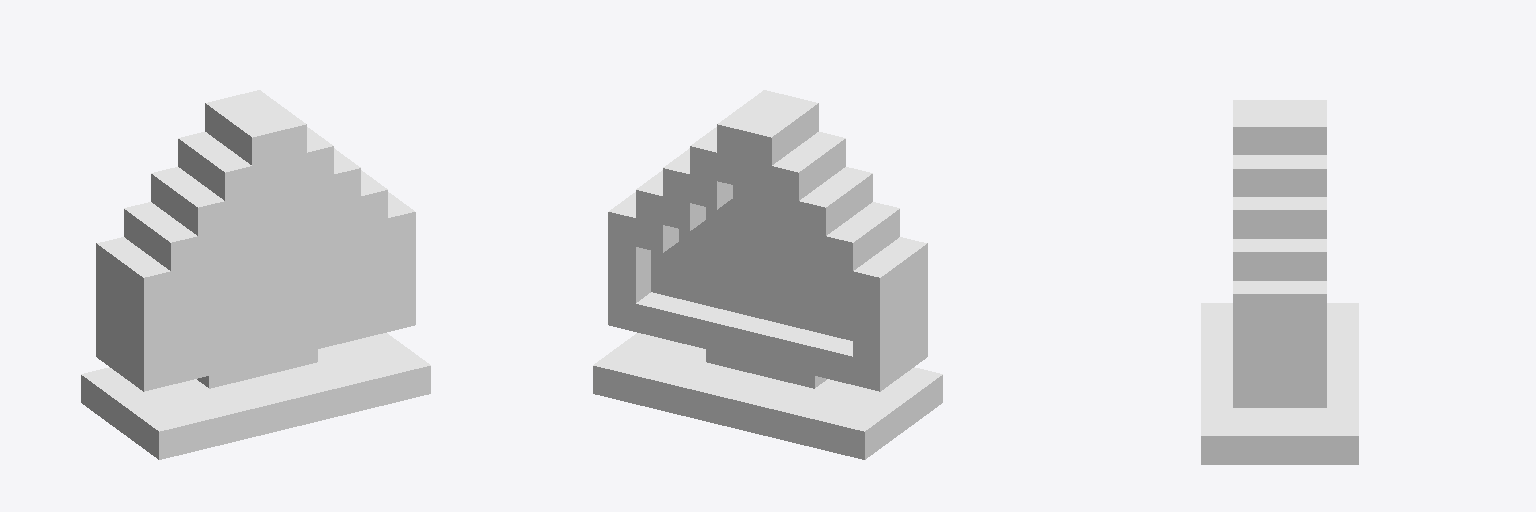
File: Game_new_monitor4.obj
3 renders of one model, left to right at view 1: azimuth 30°, elevation 25°; view 2: azimuth 150°, elevation 25°; view 3: azimuth 270°, elevation 25°, orthographic.
Visible parts, largest first — view 1: new_monitor4.001; view 2: new_monitor4.001; view 3: new_monitor4.001.
Part boxes in pixels (x1,y1,x2,y2): new_monitor4.001: (81,90,430,459); new_monitor4.001: (593,90,942,459); new_monitor4.001: (1201,100,1358,464).
Size of the model in its own units: 1 by 1 by 0.5.